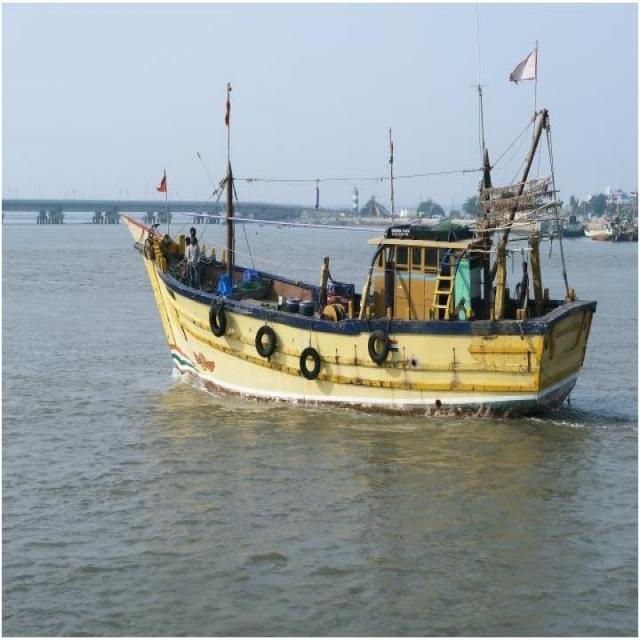boat: (124, 208, 586, 427)
